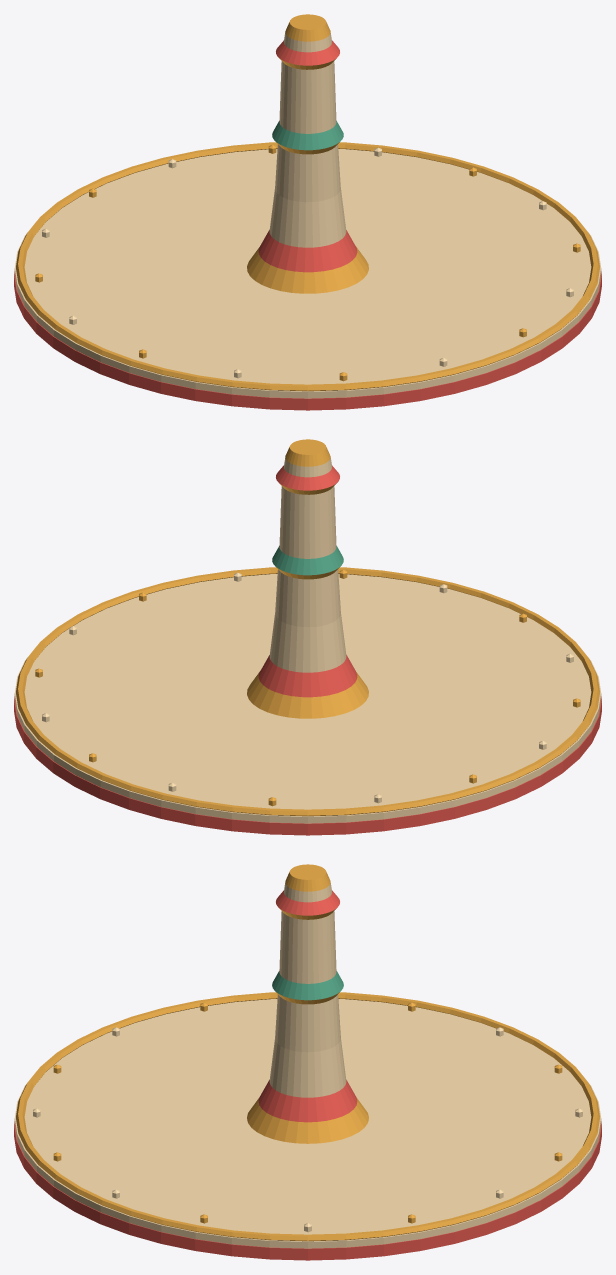
Rendered from ParkParkSwingBase.obj.
3 views of the same model, one above another, from view 1: azimuth 30°, elevation 25°; view 2: azimuth 150°, elevation 25°; view 3: azimuth 270°, elevation 25° (orthographic).
Parts seen in each view (by area): view 1: ParkParkSwingBase; view 2: ParkParkSwingBase; view 3: ParkParkSwingBase.
Part boxes in pixels (x1,y1,x2,y2): ParkParkSwingBase: (14, 14, 601, 410); ParkParkSwingBase: (14, 439, 601, 835); ParkParkSwingBase: (14, 864, 601, 1260).
Bounding box in the file's own units: 16.04 × 7.95 × 16.04.
